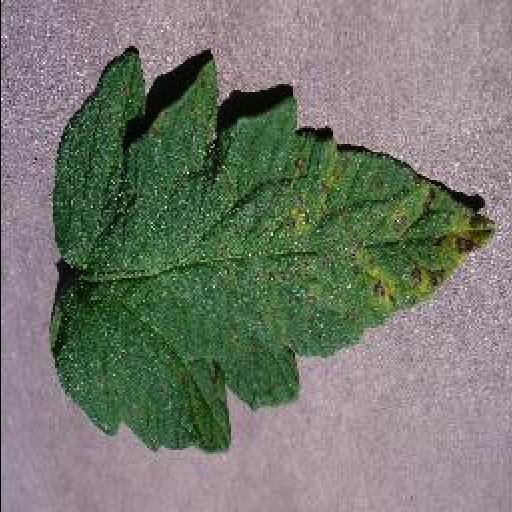disease_tomato: (46, 44, 494, 456)
